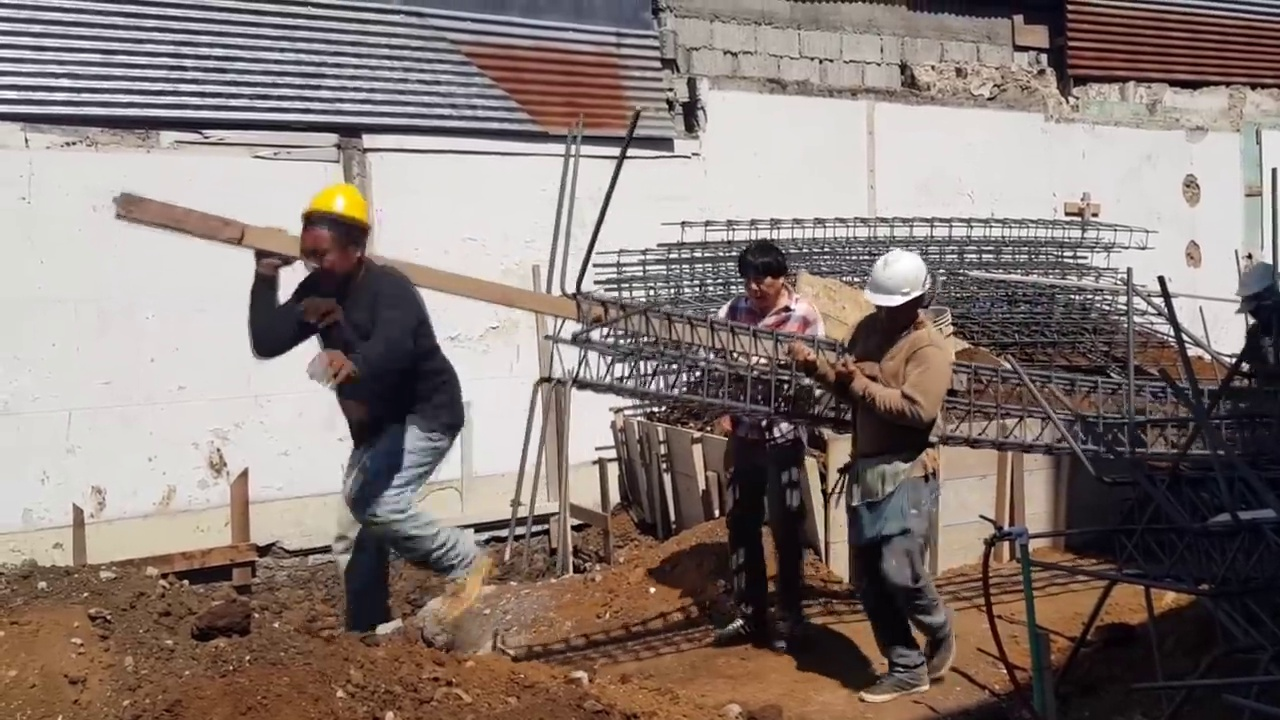helmet: (865, 246, 932, 306), (296, 185, 374, 233), (1235, 262, 1275, 298)
helmet-off: (735, 245, 791, 310)
helmet-on: (297, 188, 373, 291), (865, 247, 931, 336), (1234, 261, 1280, 330)
person: (247, 183, 492, 636), (786, 245, 952, 703), (719, 246, 825, 650), (1236, 261, 1280, 384)
